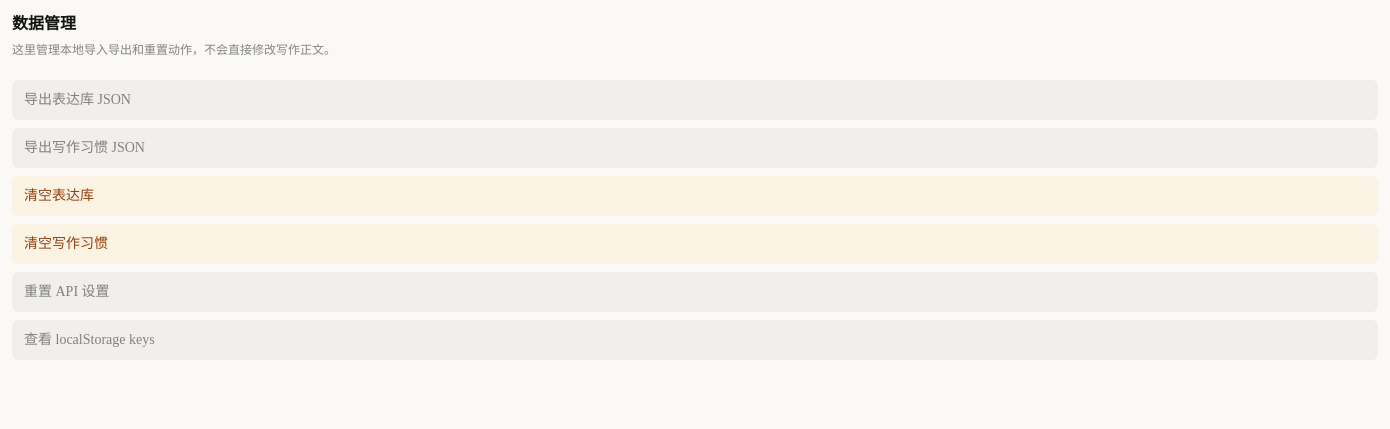
it: DataControlPanel › clears learning library only after confirm and shows scoped feedback
Click the button "清空表达库": (59, 196) left=12, top=176, right=1378, bottom=216
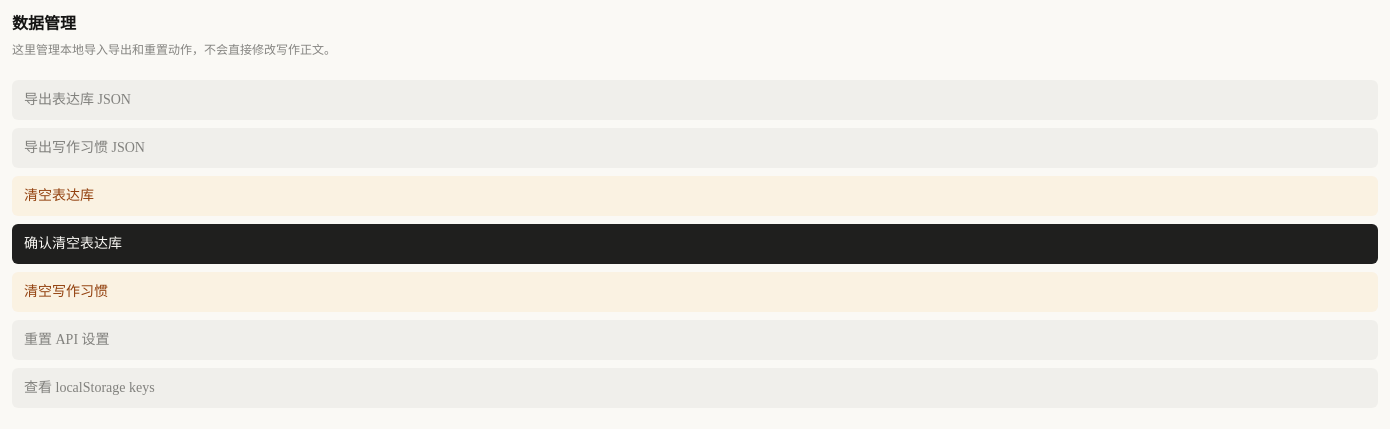
Click the button "确认清空表达库": (73, 244) left=12, top=224, right=1378, bottom=264
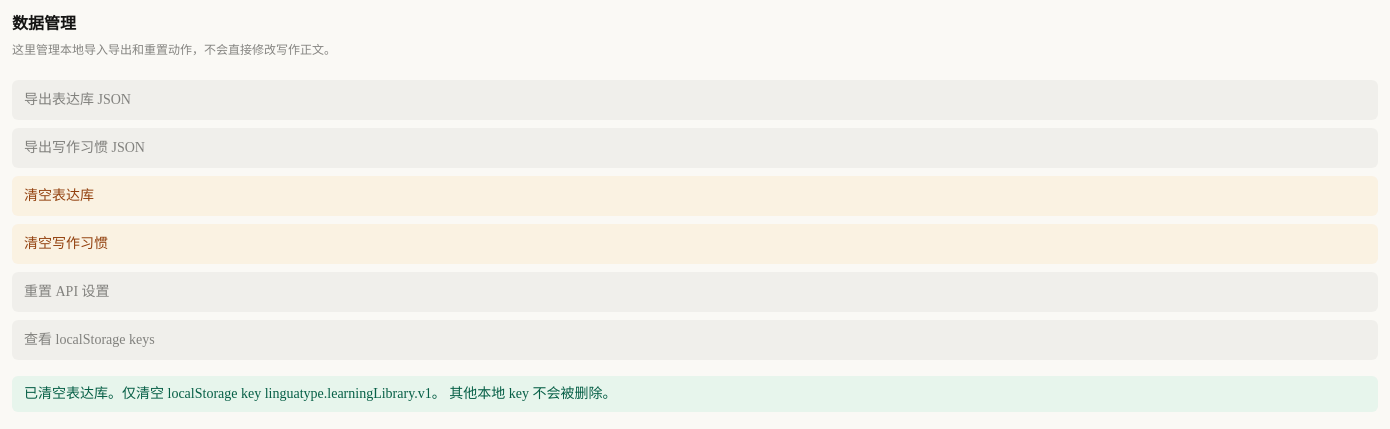
Expected: the message does not show "linguatype.correctionEvents.v1", left=12, top=376, right=1378, bottom=412
Now the message shows "localStorage key", box left=24, top=386, right=616, bottom=401
Now the message shows "linguatype.learningLibrary.v1", box left=24, top=386, right=616, bottom=401
